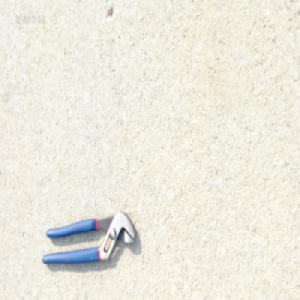Pliers: (41, 208, 137, 266)
